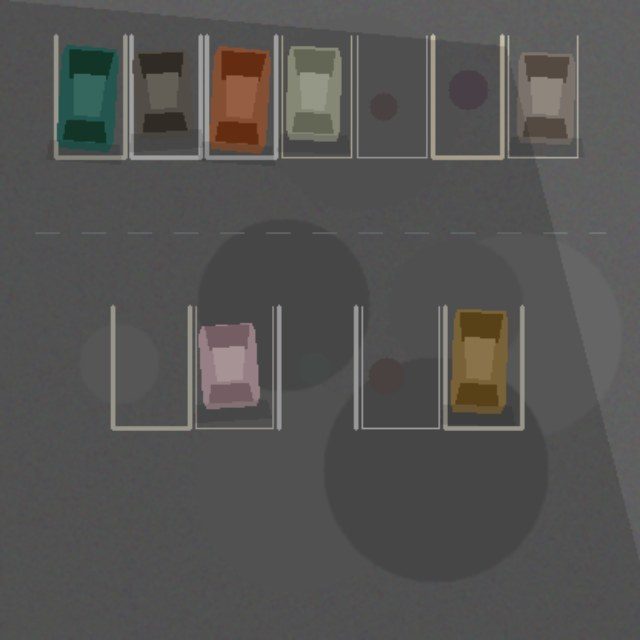space-empty: (112, 306, 189, 428), (278, 306, 355, 428), (362, 306, 438, 428), (432, 35, 502, 157), (357, 35, 426, 157)
space-occupied: (195, 306, 272, 428), (445, 306, 522, 428), (55, 35, 125, 157), (131, 35, 200, 157), (206, 35, 275, 157), (282, 35, 351, 157), (508, 35, 577, 157)
